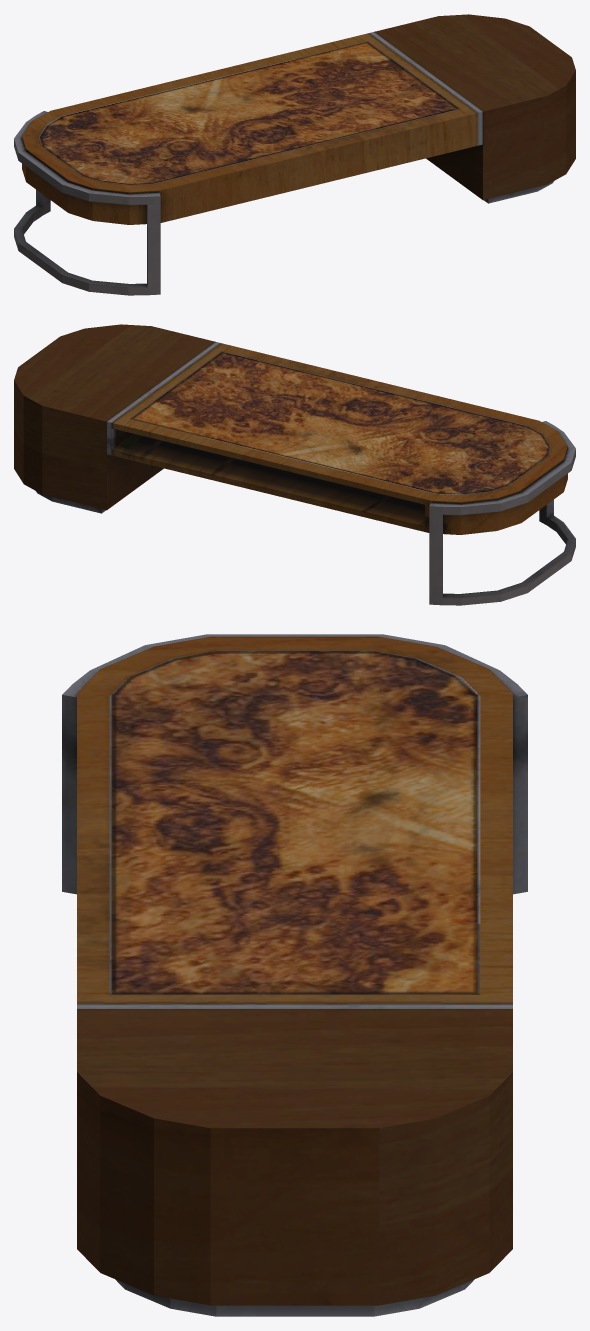
Rendered from Coffee_Table.obj.
3 renders of one model, top to bottom at view 1: azimuth 30°, elevation 25°; view 2: azimuth 150°, elevation 25°; view 3: azimuth 270°, elevation 25°, orthographic. The views are drawn at different scales.
Parts seen in each view (by area): view 1: Coffee_Table; view 2: Coffee_Table; view 3: Coffee_Table.
Boxes of the visible parts, x1=… form: Coffee_Table: x1=14, y1=14, x2=575, y2=295; Coffee_Table: x1=14, y1=324, x2=575, y2=605; Coffee_Table: x1=62, y1=634, x2=527, y2=1316.
Bounding box in the file's own units: 256 × 48.15 × 101.
1 material, 1 textured.
